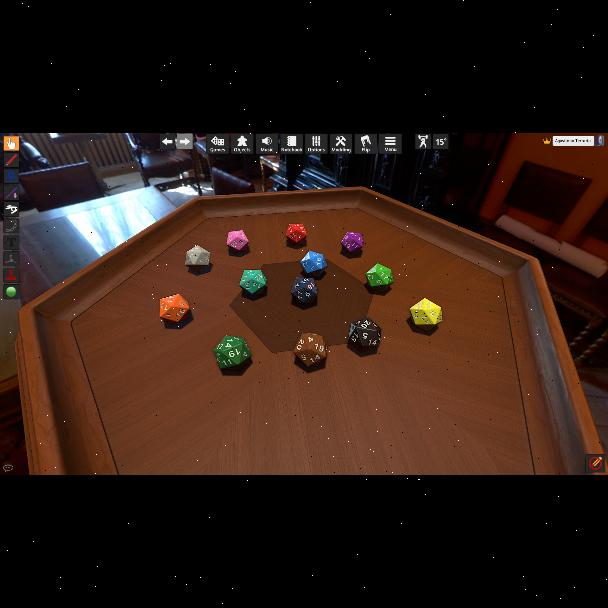d20: (214, 334, 250, 370), (293, 333, 327, 367), (349, 318, 380, 350), (410, 298, 440, 328), (160, 293, 190, 323), (290, 278, 318, 304), (366, 263, 392, 289), (240, 269, 266, 295), (300, 252, 326, 276), (186, 246, 210, 268), (340, 232, 362, 254), (226, 231, 248, 253), (287, 224, 307, 246)
